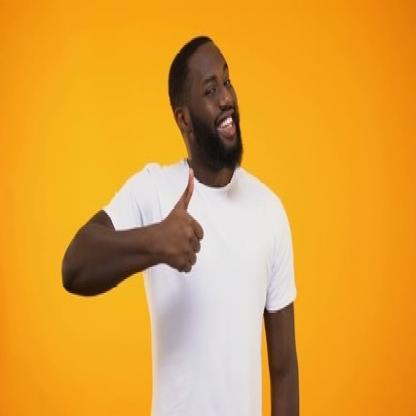Thumbs-Up: (153, 156, 214, 283)
